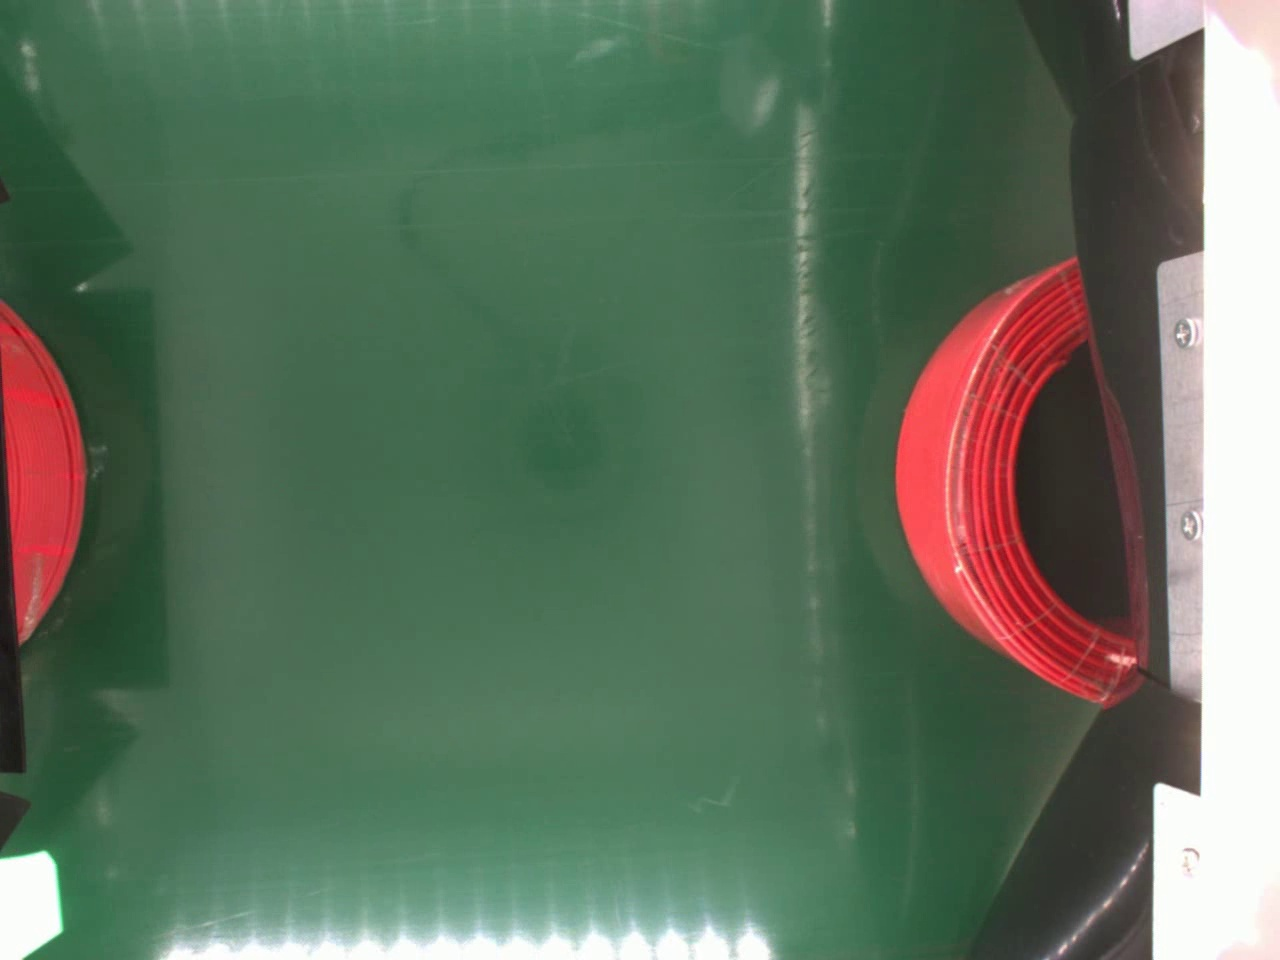red: (893, 251, 1139, 709), (0, 301, 87, 648)
